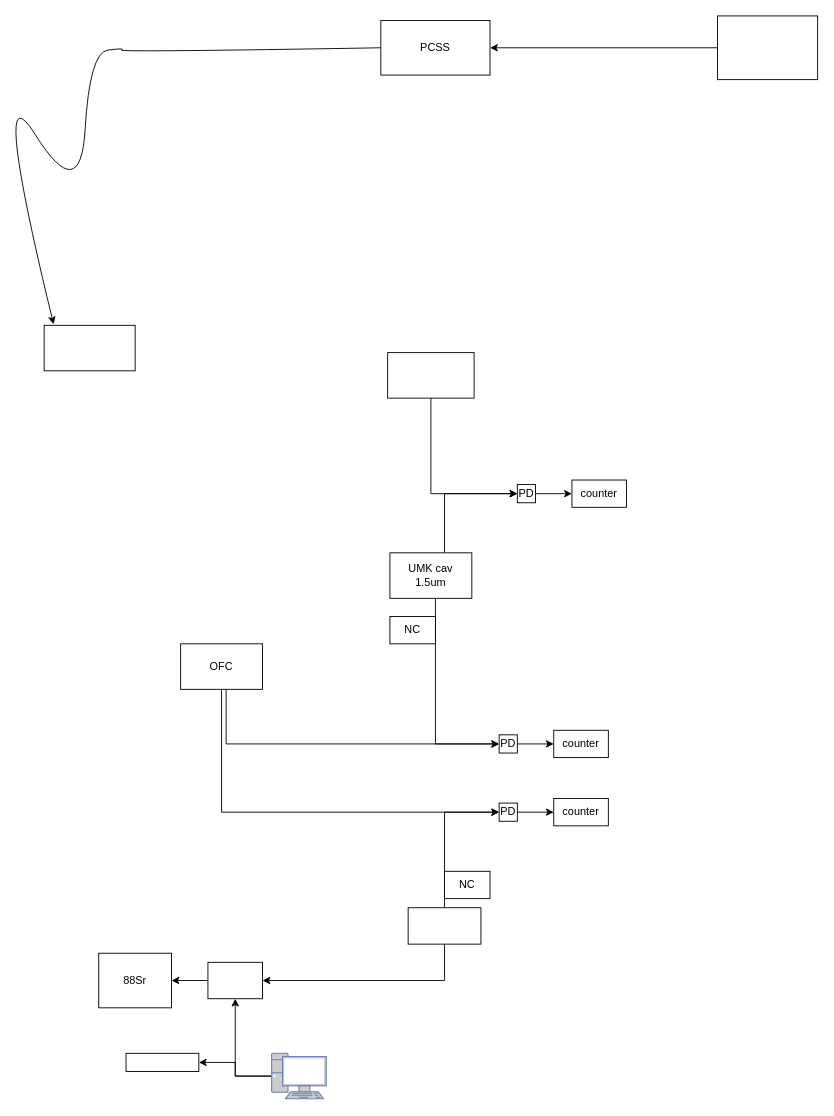
Some shapes in this 834 by 1116 pixel diagram are drawn without their labels. The centre of each missing label's shape, as x and y in pixels:
"698 cav" belongs at pixel 444 925.
"AGH box" belongs at pixel 89 347.
"AOM correction" belongs at pixel 235 980.
"PTB" belongs at pixel 767 47.
"record to DB" belongs at pixel 162 1062.
"UJ cav 1.5um" belongs at pixel 430 375.
